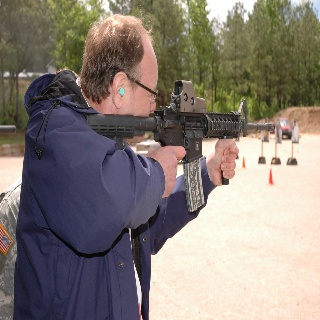rifle: (81, 80, 277, 212)
